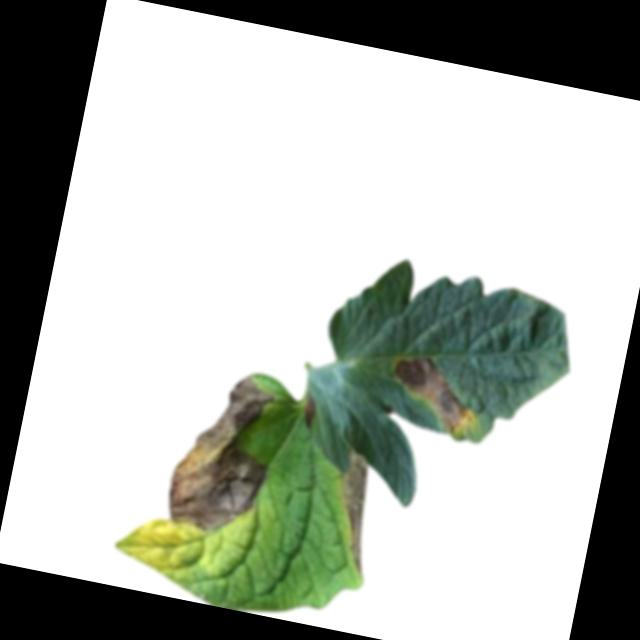Early_blight: (162, 362, 287, 542), (383, 350, 484, 439), (323, 448, 386, 573), (300, 393, 319, 429)
